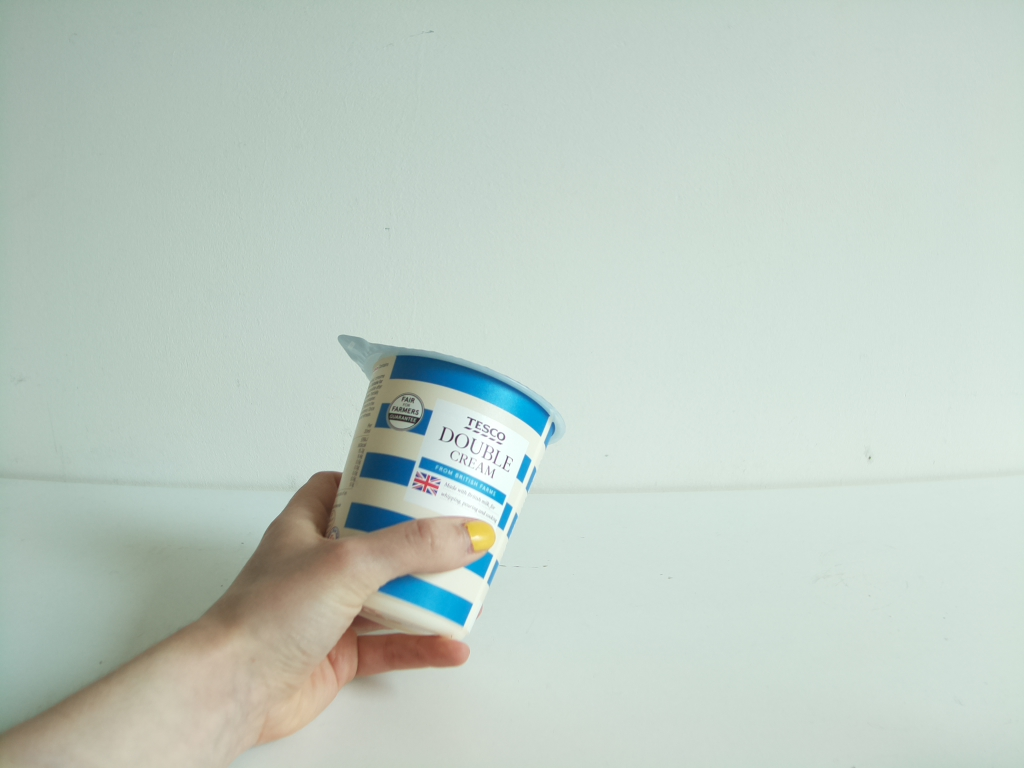cream: (326, 331, 561, 649)
